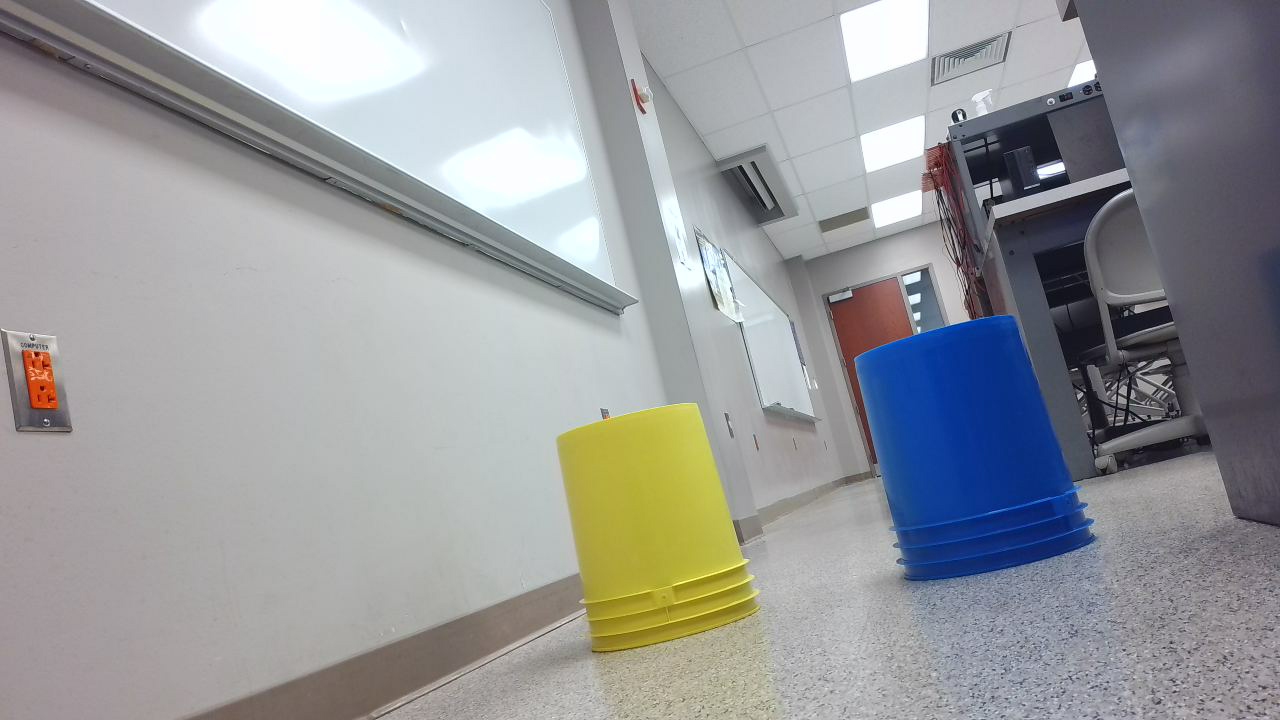blue_bucket: (854, 313, 1107, 597)
yellow_bucket: (557, 403, 772, 662)
